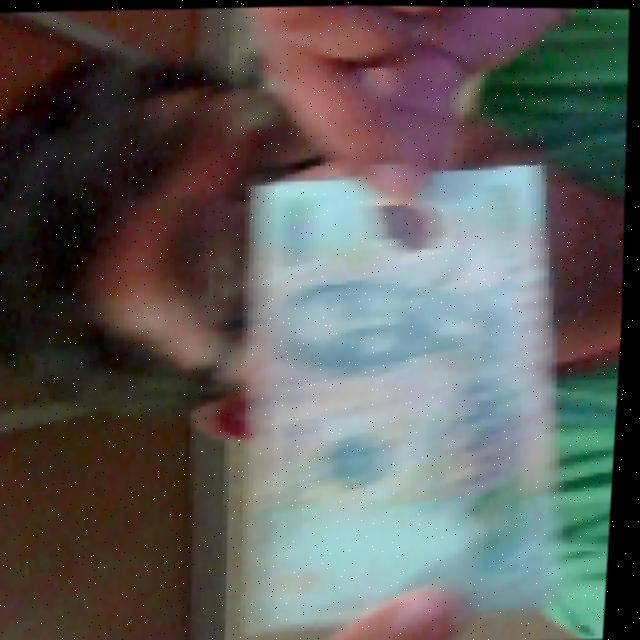20 000 VND: (210, 149, 590, 640)
